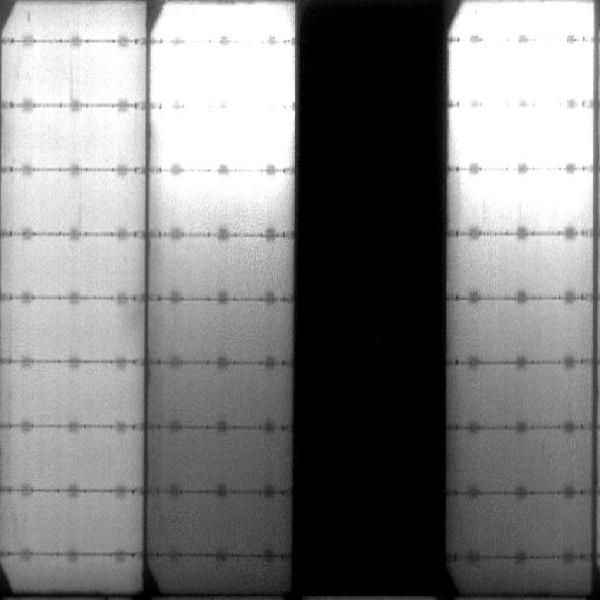hot_spot: (154, 50, 290, 98), (453, 112, 588, 159), (454, 46, 587, 93), (159, 117, 290, 159), (466, 2, 592, 32), (167, 8, 296, 34), (466, 177, 582, 200), (171, 176, 274, 189)
no_electricity: (296, 1, 447, 594)
